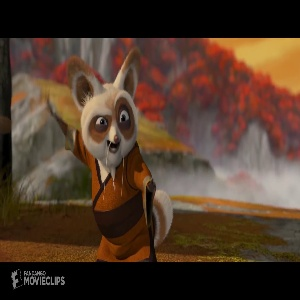shifu: (42, 47, 175, 263)
